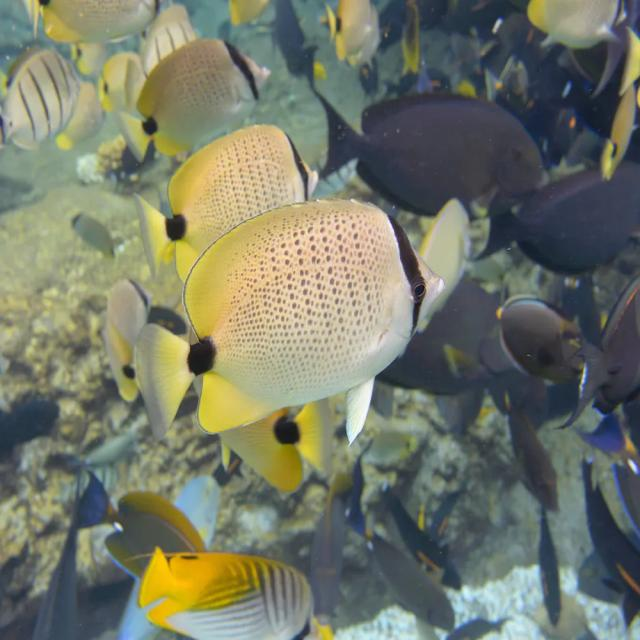ButterflyFish: (138, 207, 444, 430), (134, 552, 342, 639), (142, 127, 315, 227)
